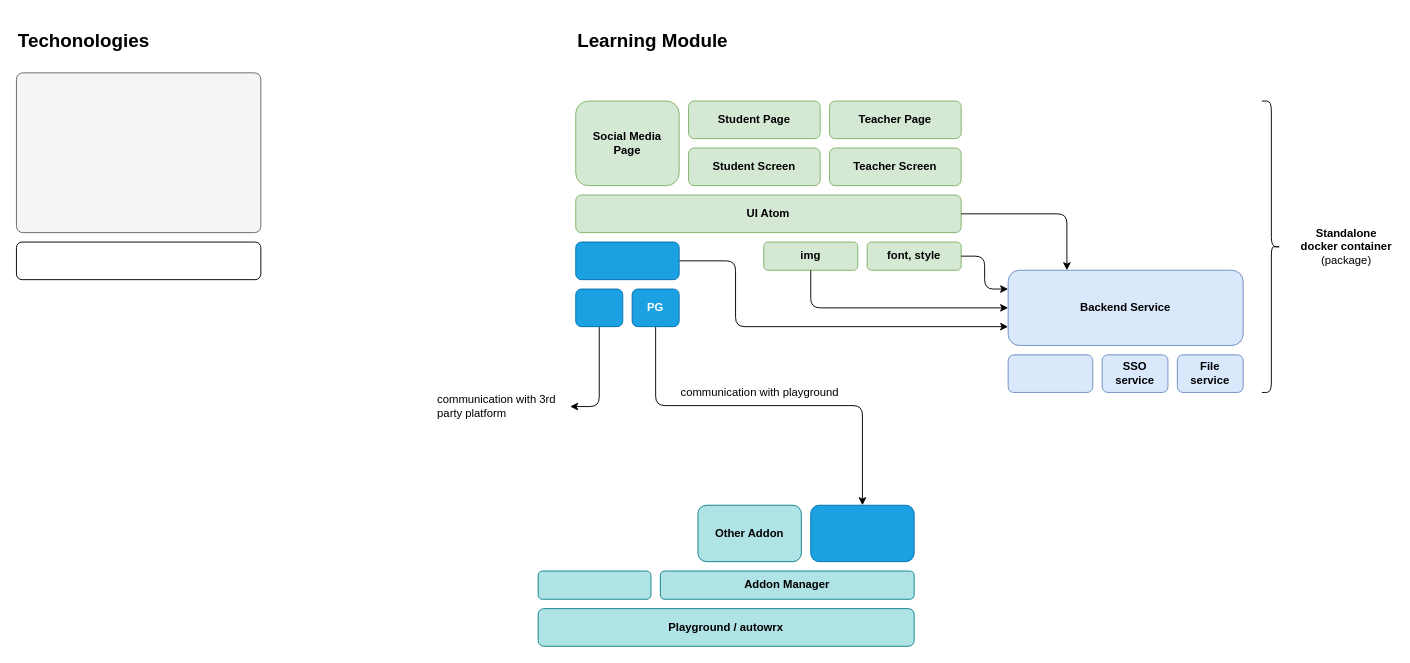
Image size: 1410x663. Some labels were removed from this diagram. The shapes that lost their labels are listed below. From the top down, each one's box as (x1, y1, x2, y2) in pixels, then its label:
(16, 72, 261, 233): NextJS Typescript Tailwind CSS
(16, 241, 261, 280): MongoDB docker
(575, 241, 679, 280): Connector
(575, 288, 623, 327): 3rd
(1007, 354, 1093, 392): mongoose
(810, 504, 914, 562): LearningJourney Addon
(537, 570, 651, 599): Builtin func
